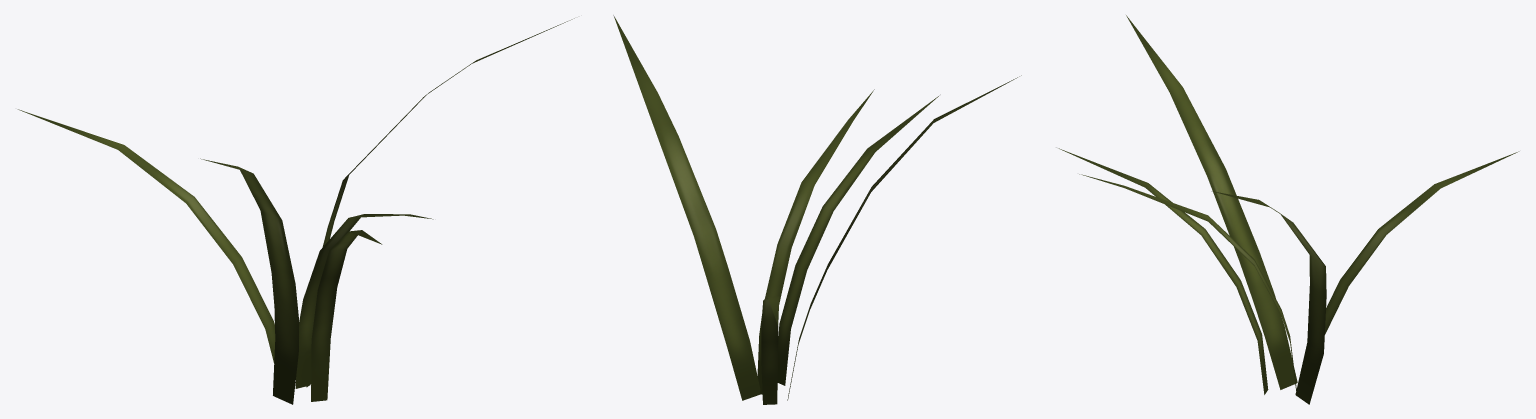
File: 001KusaS03.fbx
3 views of the same model, side by side, from view 1: azimuth 30°, elevation 25°; view 2: azimuth 150°, elevation 25°; view 3: azimuth 270°, elevation 25° (orthographic). The views are drawn at different scales.
Visible parts, largest first — view 1: KusaS03; view 2: KusaS03; view 3: KusaS03.
Part boxes in pixels (x1=…): KusaS03: x1=17, y1=18, x2=574, y2=404; KusaS03: x1=613, y1=15, x2=1021, y2=404; KusaS03: x1=1056, y1=15, x2=1519, y2=404.
Size of the model in its own units: 77.7 by 61.42 by 86.61.
1 material, 1 textured.
